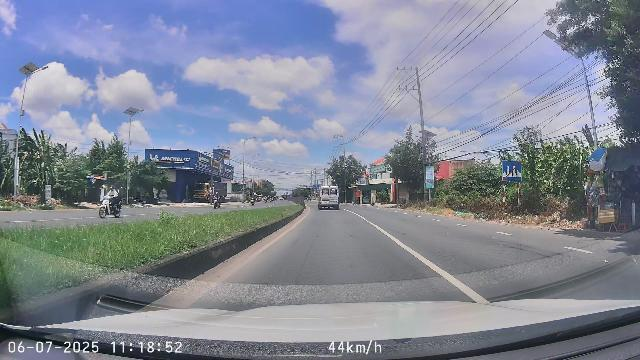421-ket-thuc-khu-dong-dan-cu: (502, 161, 522, 182)
